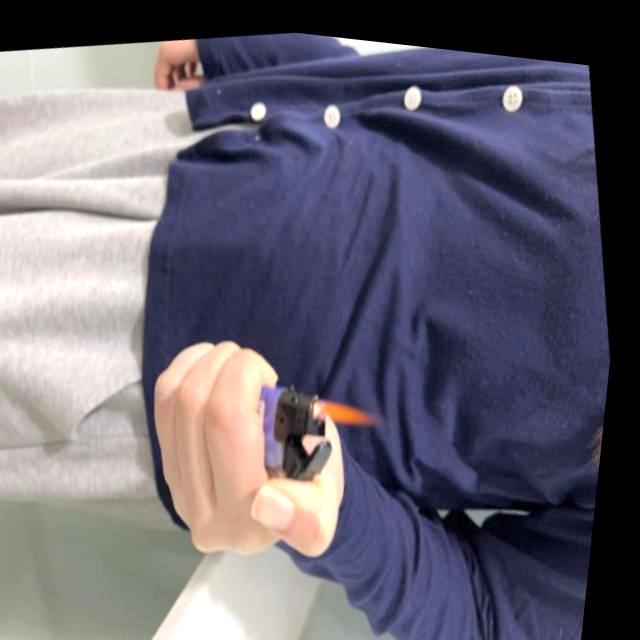fire: (314, 379, 386, 427)
